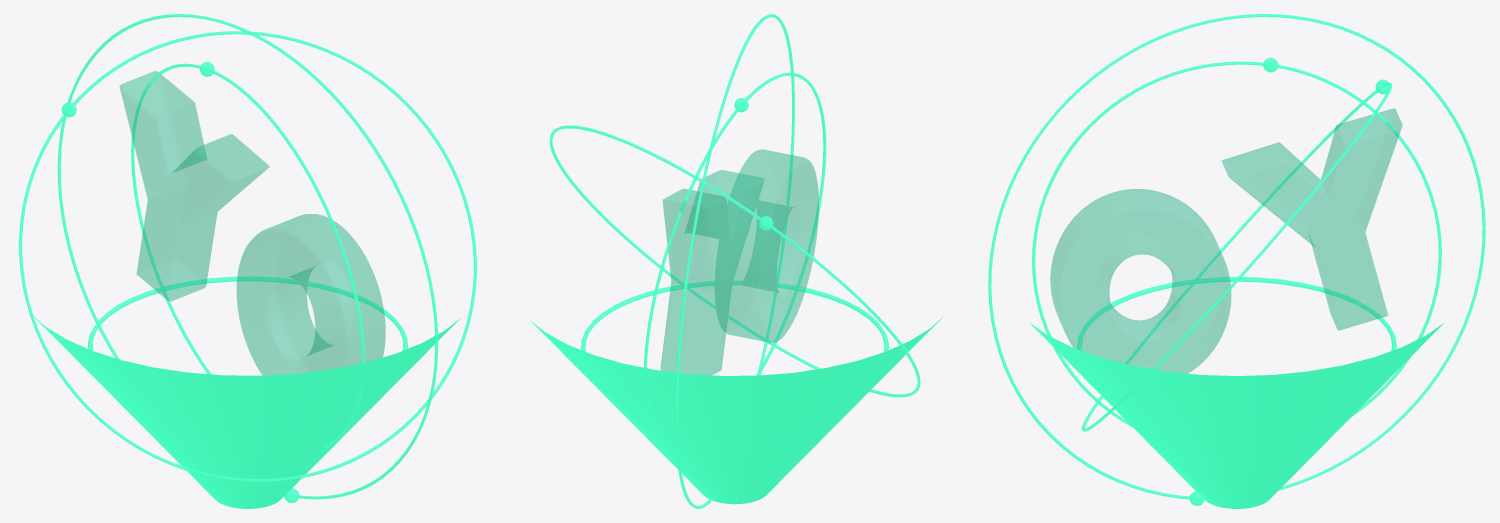
File: yo-hologram.glb
3 renders of one model, left to right at view 1: azimuth 30°, elevation 25°; view 2: azimuth 150°, elevation 25°; view 3: azimuth 270°, elevation 25°, orthographic. The views are drawn at different scales.
Parts seen in each view (by area): view 1: projection_beam, letter_O_surface, letter_Y_surface, orbit_ring_2, orbit_ring_3, orbit_ring_1, scan_ring; view 2: projection_beam, letter_O_surface, letter_Y_surface, orbit_ring_3, orbit_ring_2, orbit_ring_1, scan_ring; view 3: projection_beam, letter_O_surface, letter_Y_surface, orbit_ring_3, orbit_ring_1, orbit_ring_2, scan_ring.
Part boxes in pixels (left/top/right/bottom): projection_beam: left=32, top=315, right=461, bottom=508; letter_O_surface: left=236, top=214, right=385, bottom=375; letter_Y_surface: left=119, top=71, right=269, bottom=301; orbit_ring_2: left=19, top=31, right=476, bottom=482; orbit_ring_3: left=57, top=14, right=438, bottom=499; orbit_ring_1: left=131, top=63, right=364, bottom=447; scan_ring: left=88, top=276, right=407, bottom=350; projection_beam: left=530, top=316, right=943, bottom=504; letter_O_surface: left=715, top=149, right=818, bottom=342; letter_Y_surface: left=660, top=170, right=764, bottom=375; orbit_ring_3: left=675, top=14, right=794, bottom=508; orbit_ring_2: left=549, top=125, right=920, bottom=397; orbit_ring_1: left=643, top=72, right=826, bottom=448; scan_ring: left=581, top=281, right=888, bottom=351; projection_beam: left=1029, top=322, right=1444, bottom=508; letter_O_surface: left=1050, top=189, right=1231, bottom=373; letter_Y_surface: left=1222, top=108, right=1402, bottom=330; orbit_ring_3: left=988, top=14, right=1485, bottom=500; orbit_ring_1: left=1032, top=61, right=1441, bottom=427; orbit_ring_2: left=1081, top=82, right=1392, bottom=431; scan_ring: left=1077, top=276, right=1396, bottom=350.
Bounding box in the file's own units: 0.172 × 0.1916 × 0.1831.
